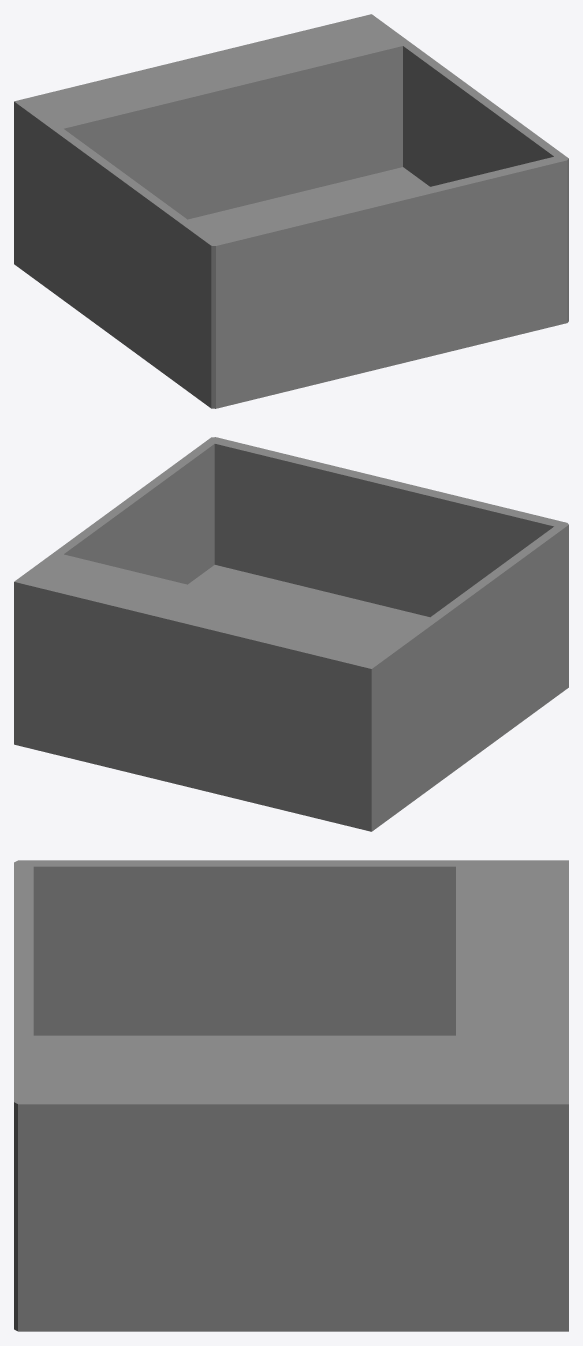
The model's file is Sink2_C2.fbx.
3 renders of one model, top to bottom at view 1: azimuth 30°, elevation 25°; view 2: azimuth 150°, elevation 25°; view 3: azimuth 270°, elevation 25°, orthographic. The views are drawn at different scales.
Parts seen in each view (by area): view 1: Sink2_C2; view 2: Sink2_C2; view 3: Sink2_C2.
Boxes of the visible parts, left/top/right/bottom form: Sink2_C2: left=14, top=14, right=568, bottom=408; Sink2_C2: left=14, top=437, right=568, bottom=831; Sink2_C2: left=14, top=860, right=568, bottom=1331.
Bounding box in the file's own units: 58.98 × 25.65 × 56.76.
